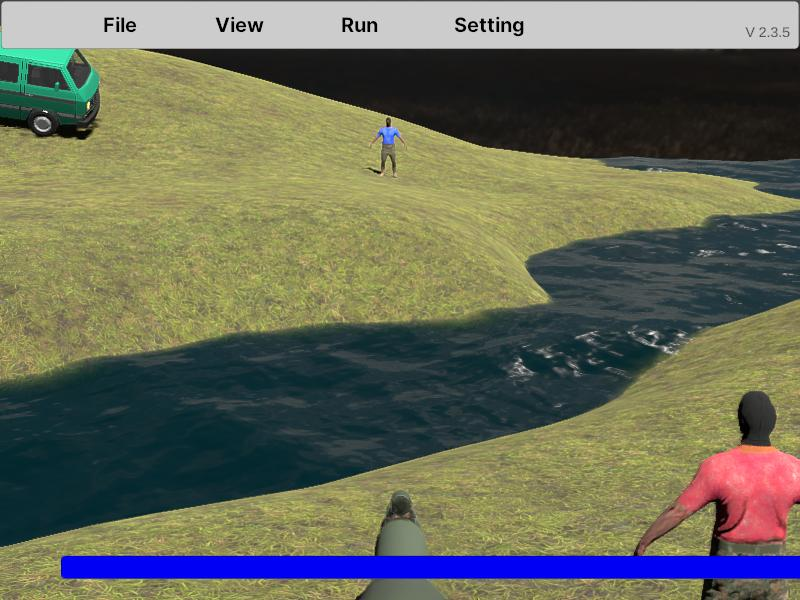Human: (631, 387, 800, 600), (634, 387, 800, 599), (370, 116, 406, 178)
car: (0, 45, 100, 139)
